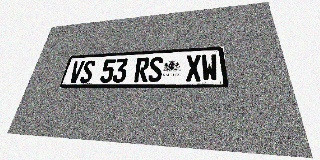3: (112, 58, 128, 83)
5: (99, 59, 116, 83)
R: (134, 57, 150, 82)
S: (79, 60, 96, 83), (148, 57, 163, 82)
V: (68, 61, 85, 83)
W: (201, 54, 219, 81)
X: (186, 55, 202, 82)
